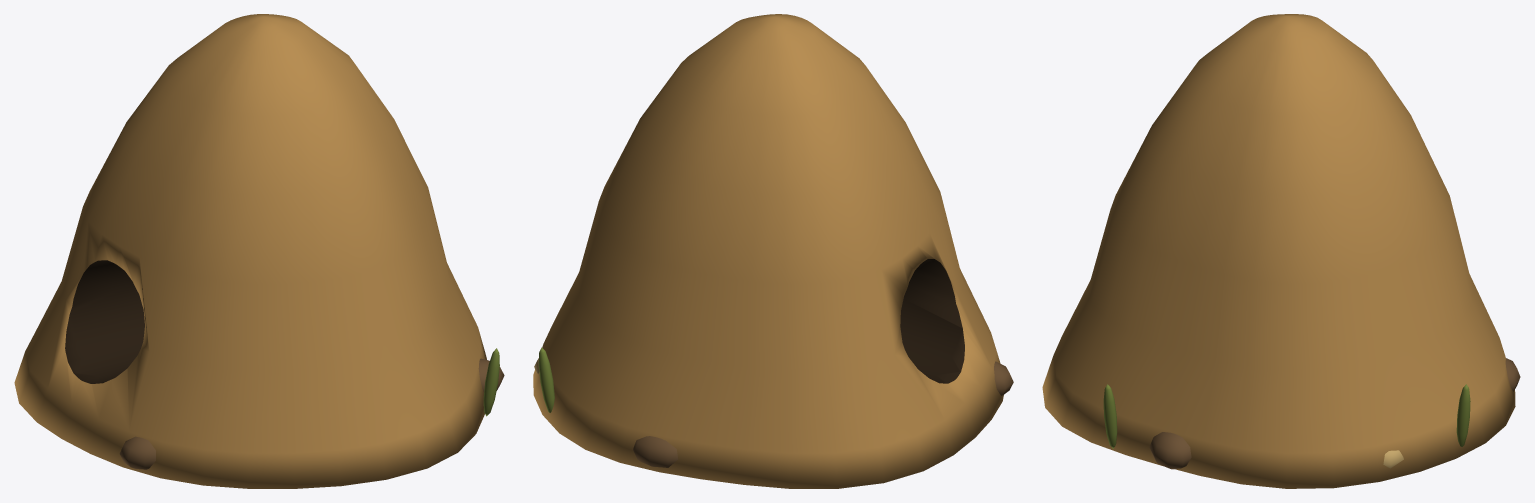
Rendered from lvl01_environment_anthill_side_tunnel_v01.glb.
3 views of the same model, side by side, from view 1: azimuth 30°, elevation 25°; view 2: azimuth 150°, elevation 25°; view 3: azimuth 270°, elevation 25° (orthographic).
Parts seen in each view (by area): view 1: soil_mound, soil_pebble_03, grass_-1; view 2: soil_mound, soil_pebble_01, grass_1; view 3: soil_mound, soil_pebble_05, grass_-1, grass_1.
Boxes of the visible parts, box(x1,y1,x2,y2) form: soil_mound: box(14, 14, 486, 488); soil_pebble_03: box(119, 436, 155, 469); grass_-1: box(483, 348, 499, 416); soil_mound: box(533, 14, 1003, 488); soil_pebble_01: box(633, 436, 678, 467); grass_1: box(538, 347, 554, 412); soil_mound: box(1042, 14, 1515, 488); soil_pebble_05: box(1149, 432, 1191, 469); grass_-1: box(1103, 384, 1117, 448); grass_1: box(1456, 384, 1470, 446).
Bounding box in the file's own units: 1.83 × 1.59 × 1.84.
1 material, 1 textured.
